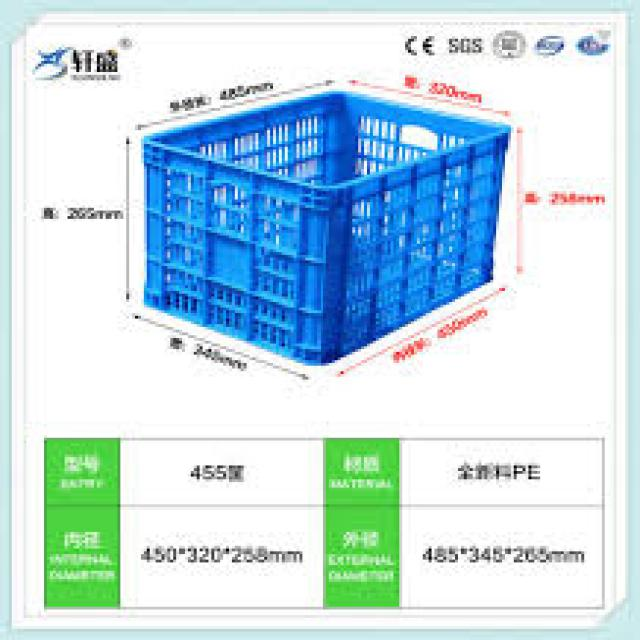basket: (118, 68, 515, 384)
